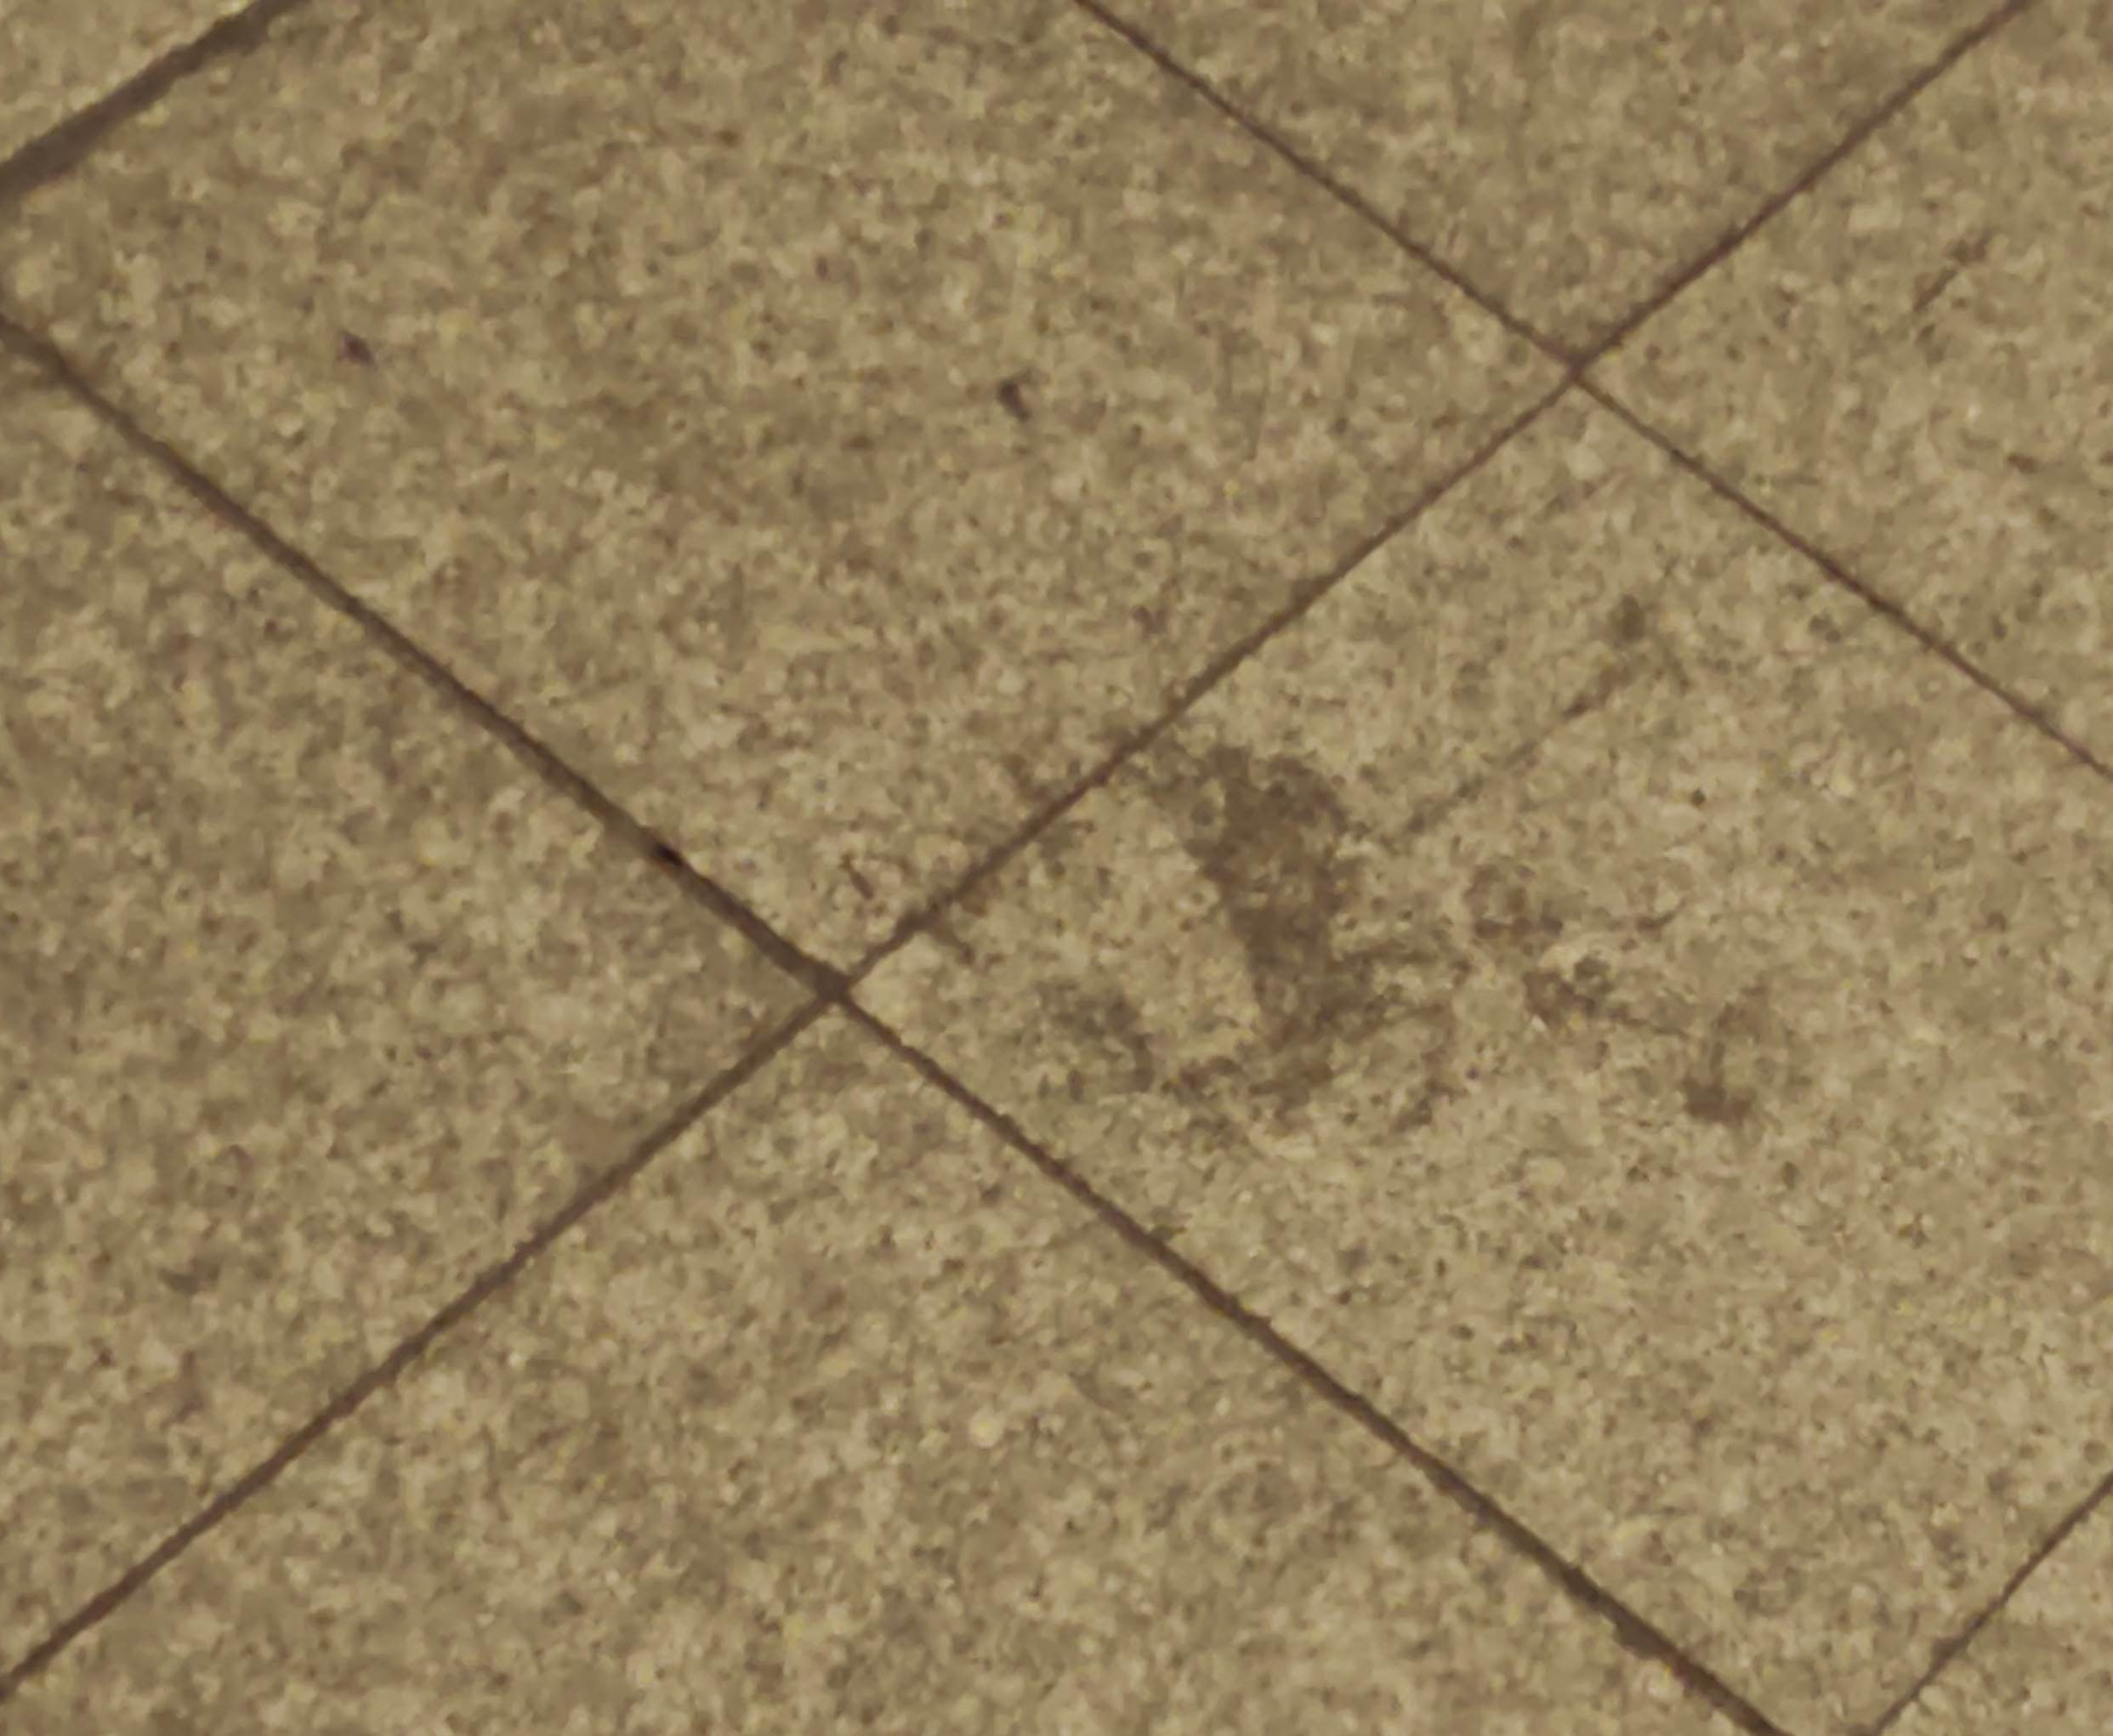grey spot: (1164, 751, 1399, 1095)
